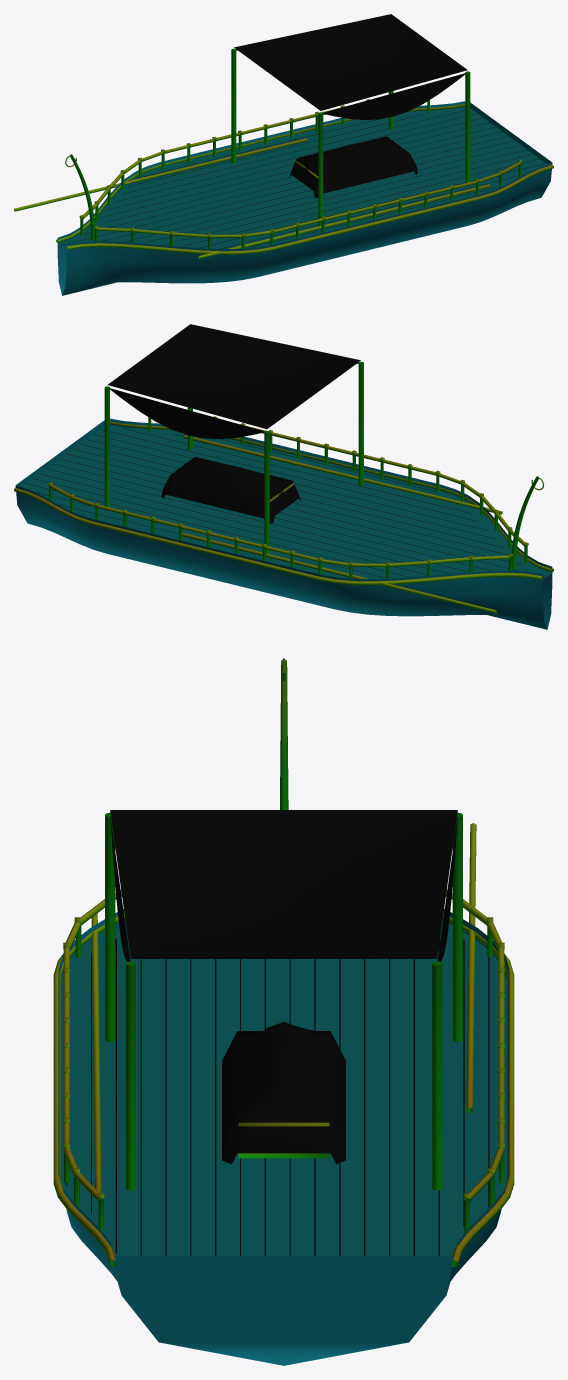
File: open_sea_barge.glb
3 views of the same model, one above another, from view 1: azimuth 30°, elevation 25°; view 2: azimuth 150°, elevation 25°; view 3: azimuth 270°, elevation 25° (orthographic). The views are drawn at different scales.
Parts seen in each view (by area): view 1: open_sea_barge; view 2: open_sea_barge; view 3: open_sea_barge.
Boxes of the visible parts, x1,y1,x2,y2 form: open_sea_barge: (14, 14, 553, 295); open_sea_barge: (14, 324, 553, 629); open_sea_barge: (53, 658, 514, 1365).
Size of what is drawn, in the model's own units: 10.01 by 3.5 by 4.45.
